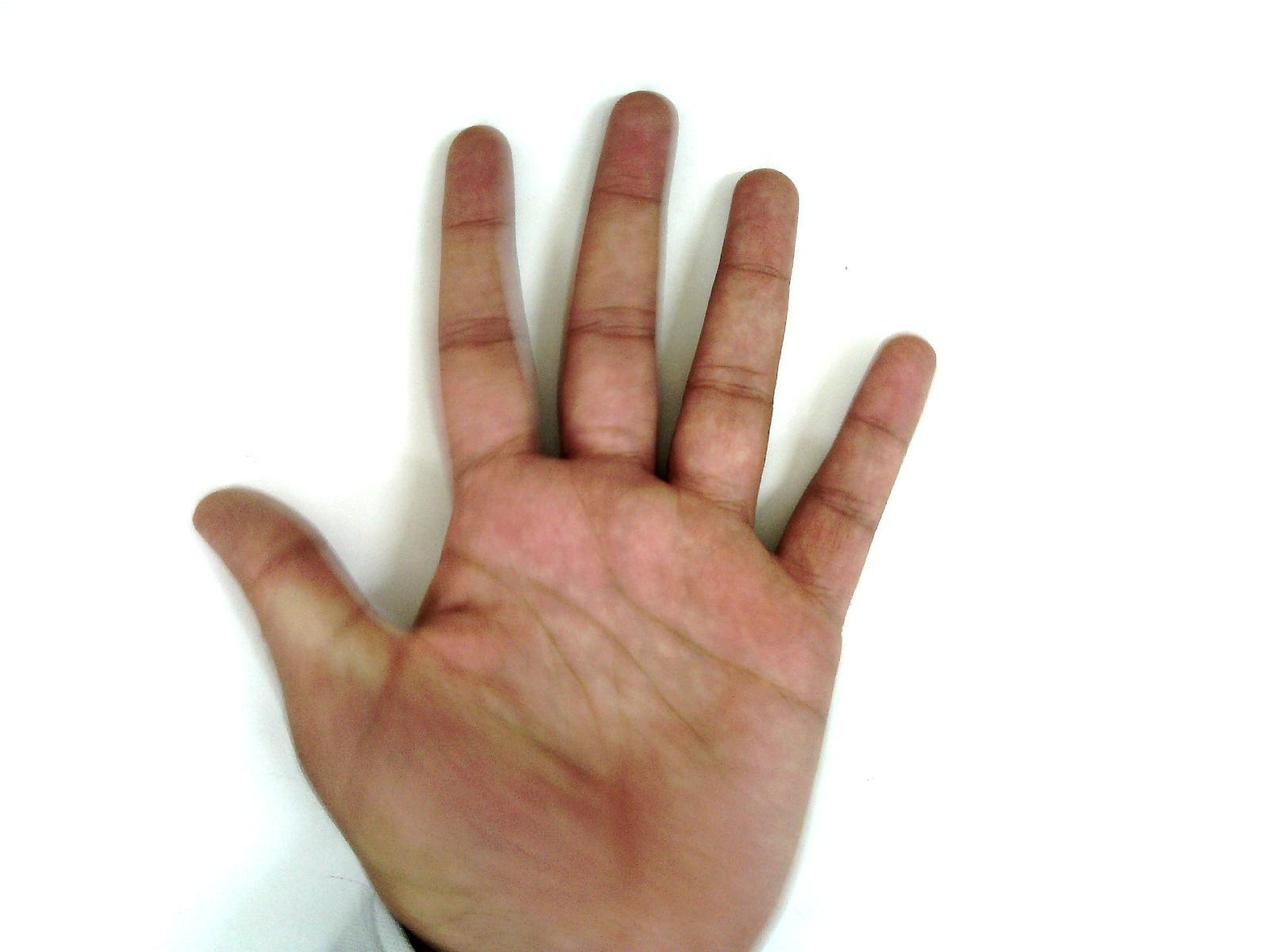open_palm: (190, 90, 941, 951)
